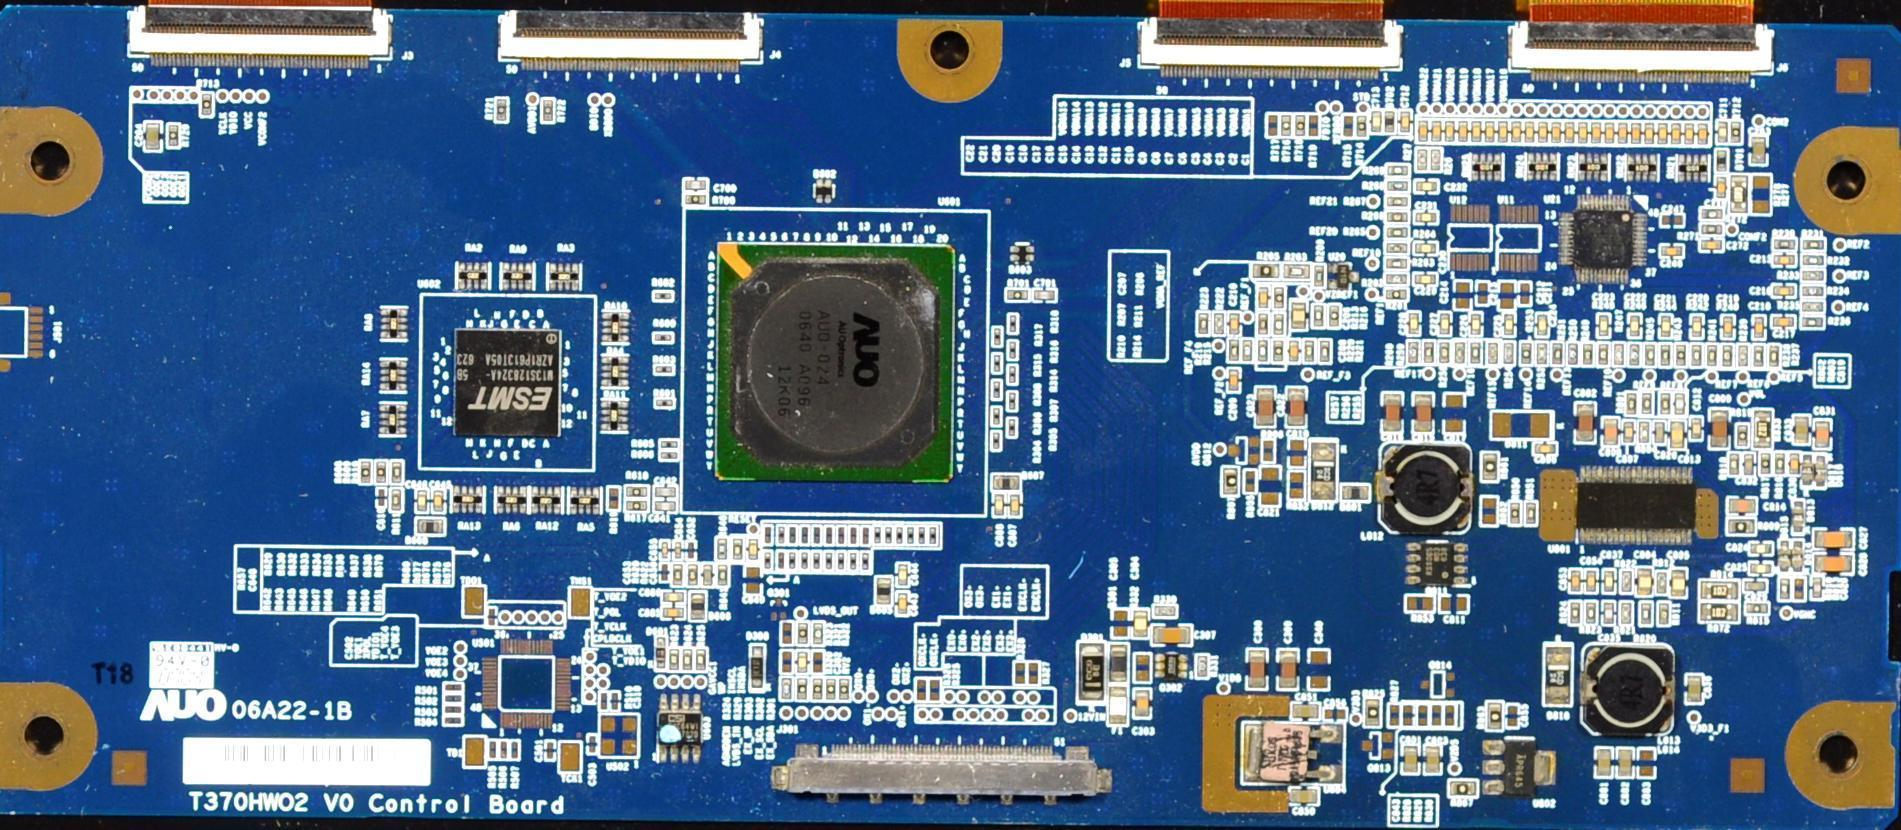Capacitor: (742, 565, 766, 602), (1259, 468, 1283, 502), (1814, 528, 1854, 548), (1256, 389, 1276, 426), (1577, 403, 1595, 444), (1153, 626, 1191, 645), (1288, 388, 1304, 427), (1384, 394, 1402, 433), (1415, 394, 1432, 433), (1248, 649, 1265, 688), (1750, 133, 1770, 165), (1311, 651, 1327, 688), (1280, 653, 1297, 690), (1711, 410, 1727, 447), (1113, 611, 1133, 639), (1287, 438, 1307, 467), (1291, 789, 1321, 807), (1793, 415, 1810, 446), (989, 490, 1005, 523), (1616, 746, 1633, 778), (1595, 746, 1611, 779), (1439, 596, 1469, 613), (1671, 421, 1687, 451), (1133, 689, 1151, 717), (1402, 744, 1418, 772), (1407, 312, 1425, 338), (1439, 309, 1455, 337), (1008, 492, 1023, 520), (1294, 701, 1319, 719), (1816, 421, 1831, 449), (1728, 498, 1757, 513), (1414, 272, 1440, 287), (1686, 677, 1702, 704), (745, 539, 762, 562), (1533, 311, 1549, 336), (1719, 315, 1735, 340), (415, 488, 430, 514), (1749, 542, 1775, 557), (1135, 612, 1151, 637), (1280, 111, 1293, 140), (1771, 255, 1798, 269), (1769, 314, 1795, 328), (661, 589, 688, 603), (1425, 745, 1439, 772), (1502, 315, 1518, 339), (694, 649, 709, 674), (145, 124, 160, 149), (1700, 239, 1725, 253), (432, 489, 446, 515), (669, 647, 684, 673), (1445, 115, 1457, 145), (1248, 438, 1260, 468), (700, 563, 715, 587), (684, 193, 710, 206), (1655, 422, 1668, 448), (796, 651, 810, 677), (1416, 180, 1440, 195), (1469, 310, 1484, 335), (1605, 418, 1617, 447), (896, 563, 910, 588), (1774, 284, 1795, 299), (1750, 563, 1775, 577), (1602, 600, 1615, 625), (781, 649, 795, 673), (1414, 241, 1438, 255), (1661, 244, 1685, 257), (1228, 312, 1240, 338), (814, 651, 826, 677), (1484, 116, 1496, 142), (1470, 118, 1482, 143), (1617, 120, 1630, 145), (1629, 312, 1642, 337), (1658, 314, 1671, 339), (1623, 420, 1636, 446), (686, 179, 709, 193), (1811, 577, 1825, 600), (1498, 115, 1509, 143), (1419, 116, 1429, 144), (1672, 392, 1687, 413), (1399, 110, 1411, 134), (1671, 121, 1683, 145), (1257, 287, 1269, 311), (1691, 314, 1703, 338), (1289, 339, 1301, 363), (1789, 452, 1802, 476), (663, 605, 687, 617), (779, 677, 792, 701), (1431, 115, 1442, 142), (1656, 123, 1669, 145), (1296, 110, 1306, 139), (1577, 120, 1589, 143), (1753, 316, 1765, 339), (1743, 454, 1755, 477), (1459, 116, 1469, 142), (1551, 118, 1562, 143), (1537, 119, 1548, 144), (682, 647, 694, 673), (896, 592, 909, 613), (1697, 123, 1710, 146), (1033, 289, 1055, 302), (1691, 417, 1703, 439), (1535, 444, 1557, 456), (782, 622, 794, 644), (1414, 212, 1437, 223), (1599, 315, 1610, 338), (1571, 569, 1582, 593), (656, 485, 677, 497), (1645, 121, 1655, 147), (1604, 122, 1615, 144), (1591, 123, 1602, 145), (659, 539, 671, 561), (1268, 112, 1277, 139), (1512, 118, 1522, 142), (1632, 121, 1641, 146), (1716, 173, 1725, 197), (1685, 119, 1694, 144), (1565, 120, 1574, 145), (1717, 119, 1727, 141), (1525, 121, 1535, 143), (1229, 370, 1238, 393), (1605, 569, 1614, 592), (1587, 570, 1596, 592), (676, 537, 684, 561), (654, 503, 676, 510)
Connector: (1484, 2, 1789, 87), (123, 2, 406, 70), (490, 14, 777, 74)
IC: (712, 241, 959, 481), (432, 301, 585, 466), (1577, 467, 1697, 547), (1554, 196, 1653, 289), (481, 639, 571, 727), (658, 693, 703, 764)
Resistor: (1700, 578, 1738, 601), (1699, 602, 1739, 623), (1751, 177, 1771, 213), (1363, 698, 1382, 730), (1733, 174, 1747, 215), (1405, 595, 1435, 612), (1729, 518, 1756, 537), (1289, 473, 1306, 501), (1622, 390, 1640, 416), (420, 520, 448, 535), (1487, 700, 1503, 730), (1482, 454, 1498, 481), (624, 484, 651, 500), (492, 94, 508, 122), (1703, 343, 1719, 370), (715, 538, 732, 562), (1798, 254, 1828, 268), (989, 350, 1005, 376), (1355, 112, 1369, 140), (824, 678, 840, 703), (1253, 265, 1279, 280), (1384, 286, 1410, 301), (1585, 602, 1599, 628), (374, 461, 389, 484), (794, 679, 810, 702), (1796, 300, 1828, 312), (1223, 466, 1236, 495), (1005, 288, 1030, 302), (1318, 339, 1331, 365), (359, 459, 372, 485), (625, 499, 651, 512), (810, 521, 823, 546), (1654, 571, 1667, 596), (1745, 602, 1770, 615), (813, 677, 827, 703), (1804, 237, 1827, 252), (1735, 423, 1750, 446), (389, 460, 404, 484), (1620, 602, 1634, 625), (1657, 345, 1674, 365), (541, 99, 554, 123), (1385, 242, 1409, 256), (1385, 258, 1409, 271), (991, 429, 1004, 453), (1658, 601, 1672, 625), (1659, 393, 1673, 415), (391, 487, 403, 516), (1273, 284, 1285, 309), (1510, 501, 1522, 526), (1774, 239, 1797, 252), (1006, 339, 1019, 362), (1502, 341, 1515, 364), (1721, 347, 1735, 369), (716, 564, 730, 586), (1800, 285, 1825, 297), (1801, 317, 1826, 330), (990, 405, 1003, 429), (993, 325, 1004, 351), (1551, 340, 1564, 362), (1613, 343, 1626, 365), (1736, 343, 1750, 365), (798, 622, 811, 644), (443, 714, 464, 727), (1731, 120, 1743, 143), (1519, 342, 1531, 365), (1641, 391, 1654, 415), (688, 565, 699, 588), (814, 623, 826, 646), (1385, 197, 1410, 209), (1198, 312, 1209, 337), (993, 381, 1004, 406), (1642, 344, 1655, 365), (202, 92, 213, 116), (1312, 305, 1323, 329), (1260, 312, 1270, 336), (1008, 316, 1020, 338), (1272, 341, 1284, 362), (1406, 342, 1418, 364), (1488, 343, 1500, 365), (1008, 391, 1020, 413), (1760, 453, 1772, 475), (1525, 501, 1536, 525), (906, 526, 916, 550), (1570, 602, 1581, 627), (1385, 166, 1411, 176), (861, 523, 870, 550), (1623, 570, 1633, 596), (1387, 180, 1410, 192), (1700, 224, 1723, 235), (1384, 226, 1407, 238), (1008, 364, 1018, 387), (1776, 452, 1787, 475), (837, 524, 848, 546), (927, 526, 938, 549), (1781, 578, 1792, 601), (840, 679, 851, 702), (499, 739, 510, 762), (1805, 270, 1826, 282), (848, 552, 859, 573), (1703, 207, 1721, 220), (1455, 342, 1466, 364), (1471, 342, 1481, 363), (1641, 603, 1653, 625), (443, 682, 464, 693), (443, 693, 464, 704), (169, 124, 178, 148), (1331, 305, 1341, 329), (1752, 344, 1764, 364), (1688, 345, 1700, 365), (1008, 417, 1018, 437), (837, 552, 847, 573), (488, 740, 499, 761), (1583, 343, 1593, 366), (1770, 343, 1780, 366), (733, 537, 743, 560), (674, 564, 684, 587), (1303, 342, 1315, 360), (761, 526, 773, 544), (1386, 274, 1407, 283), (862, 550, 872, 572), (443, 705, 464, 715), (1675, 342, 1684, 366), (1440, 343, 1450, 363), (777, 525, 787, 545), (917, 526, 926, 546), (775, 551, 786, 570), (799, 553, 810, 571), (1372, 110, 1381, 133), (1630, 344, 1639, 364), (895, 525, 904, 544), (788, 551, 798, 571), (510, 740, 520, 760), (1424, 342, 1433, 364), (1599, 345, 1609, 363), (1570, 344, 1579, 365), (872, 523, 880, 544), (812, 551, 821, 572), (1386, 214, 1408, 222), (827, 525, 834, 547), (1538, 344, 1547, 362), (852, 526, 859, 547), (801, 526, 809, 546), (765, 552, 773, 570), (825, 552, 833, 570), (789, 527, 796, 546), (885, 525, 891, 545)
Transistor: (1326, 259, 1358, 291)
